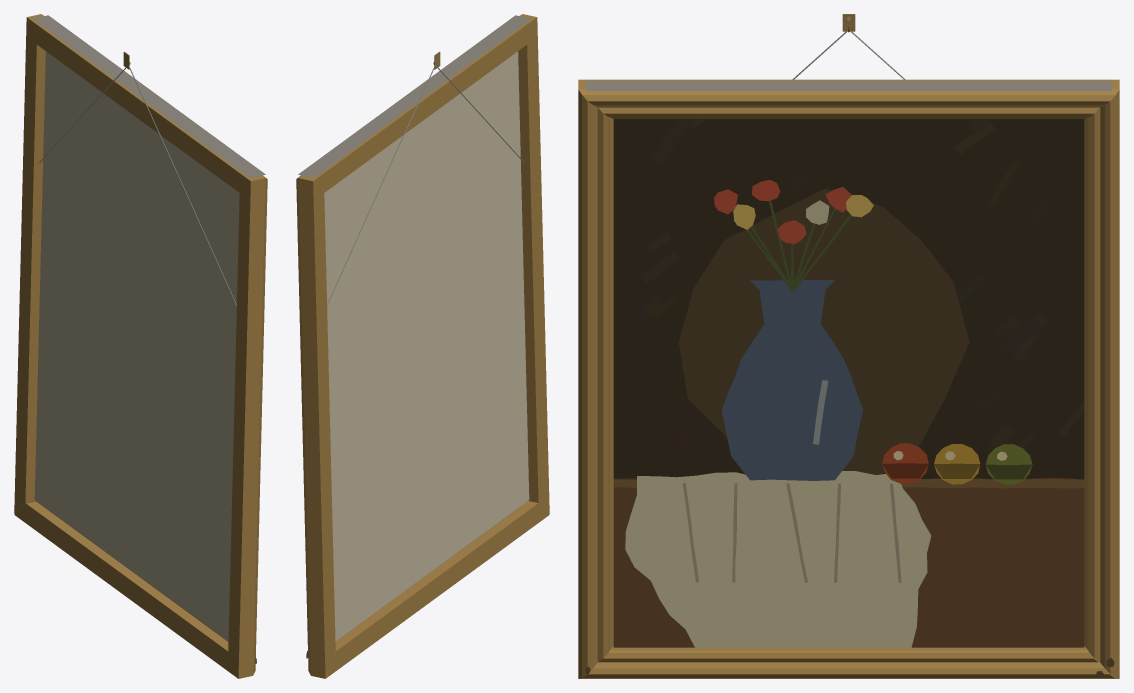
Rendered from painting_c.glb.
The picture shows the model from 3 angles, left to right: view 1: azimuth 30°, elevation 25°; view 2: azimuth 150°, elevation 25°; view 3: azimuth 270°, elevation 25°; orthographic projection. The views are drawn at different scales.
Parts seen in each view (by area): view 1: bild, aufhaengung; view 2: bild, aufhaengung; view 3: bild.
Boxes of the visible parts, bbox=[...] form: bild: bbox=[14, 14, 267, 678]; aufhaengung: bbox=[39, 51, 236, 306]; bild: bbox=[296, 14, 549, 678]; aufhaengung: bbox=[327, 51, 524, 306]; bild: bbox=[578, 79, 1119, 678].
Bounding box in the file's own units: 0.0587 × 0.9227 × 0.69.
